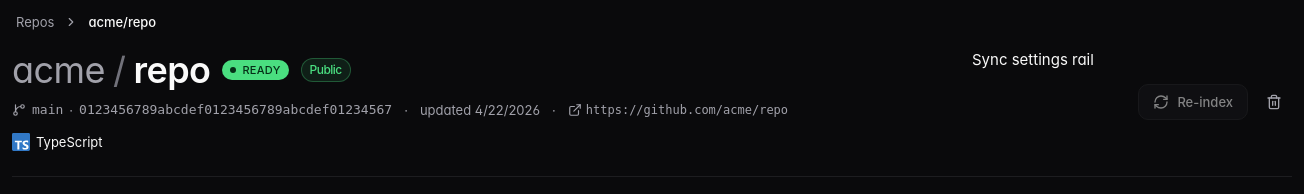
Test: RepoHero › disables Re-index for ZIP-sourced repos with an explanation tooltip
Focus the button with aria-label "re-index unavailable". click: coordinates (1193, 102)
box: left=1138, top=84, right=1248, bottom=120
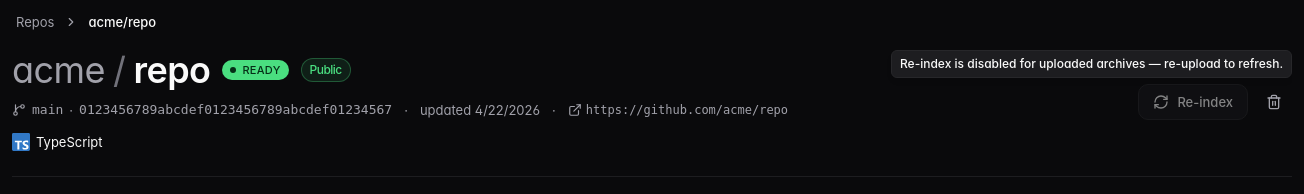
Check: the tooltip shows "Re-index is disabled for uploaded archives", box left=900, top=56, right=1283, bottom=71
